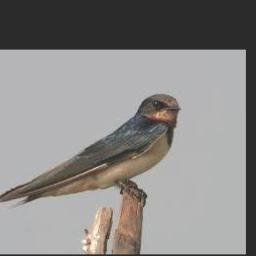Swallow: (0, 95, 180, 206)
